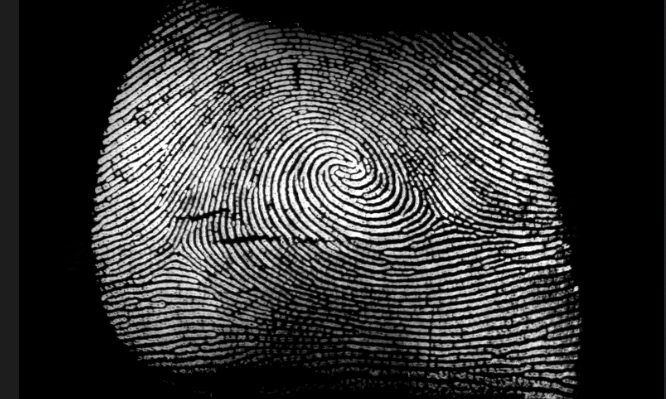nucelo: (324, 153, 375, 188)
verticilo: (161, 236, 193, 266), (424, 203, 453, 230)
